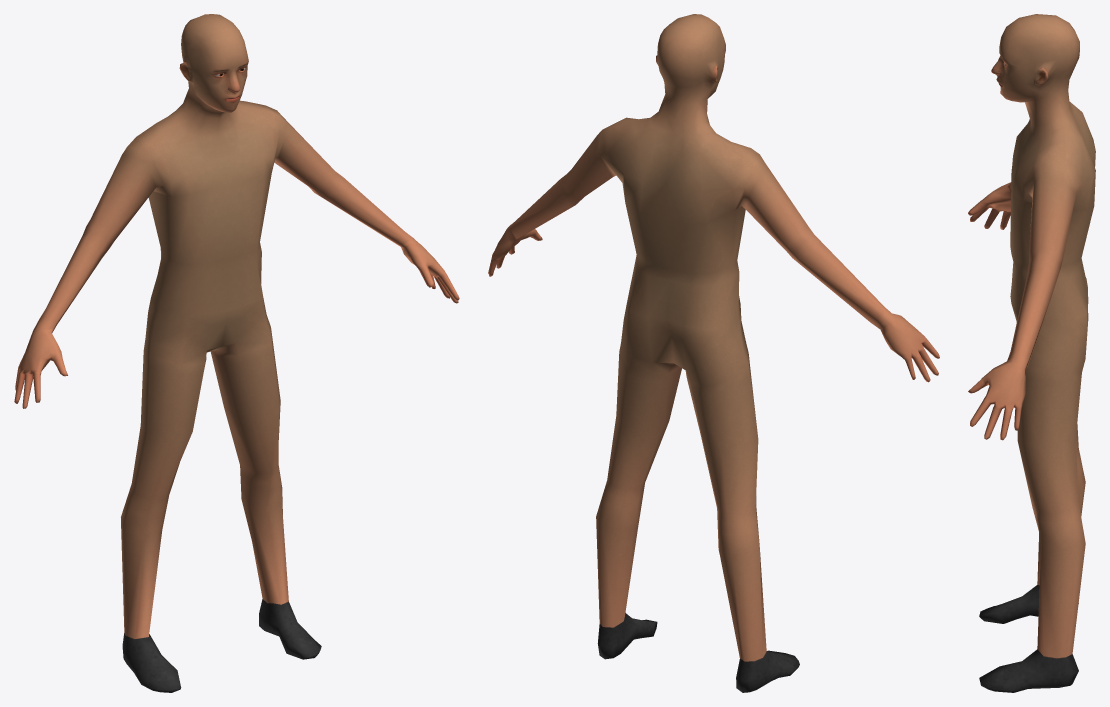
File: MaleChar.fbx
3 views of the same model, side by side, from view 1: azimuth 30°, elevation 25°; view 2: azimuth 150°, elevation 25°; view 3: azimuth 270°, elevation 25° (orthographic).
Visible parts, largest first — view 1: BaseChar; view 2: BaseChar; view 3: BaseChar.
Part boxes in pixels (x1=…): BaseChar: x1=14, y1=14, x2=459, y2=692; BaseChar: x1=488, y1=14, x2=939, y2=692; BaseChar: x1=968, y1=14, x2=1095, y2=692.
Bounding box in the file's own units: 12.46 × 17.42 × 3.17.
